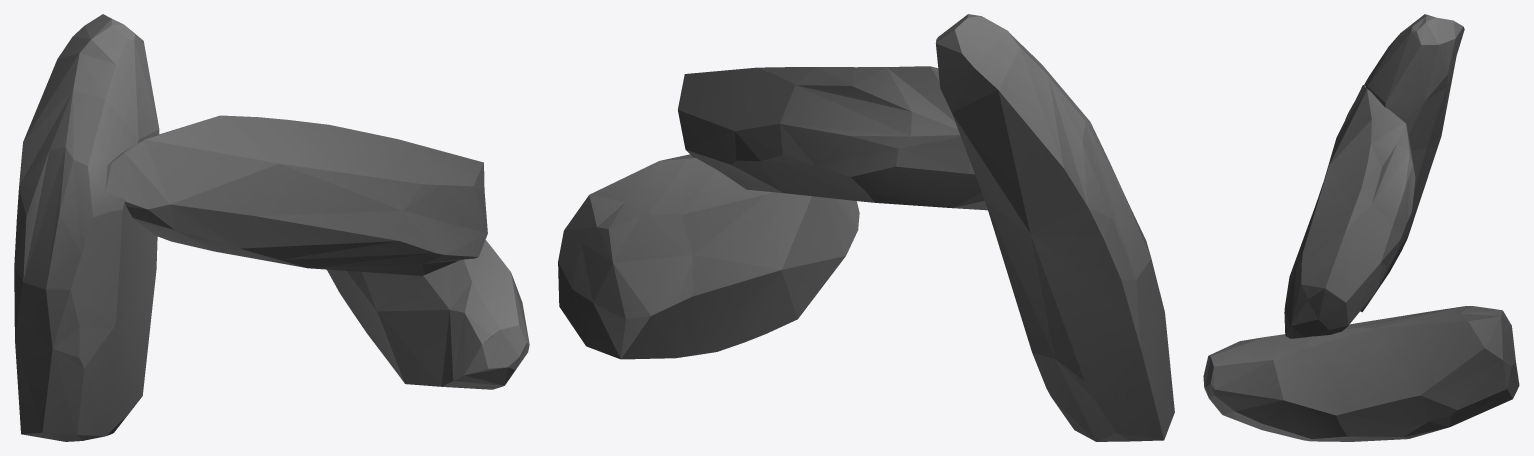
File: obsRock_04.fbx
3 renders of one model, left to right at view 1: azimuth 30°, elevation 25°; view 2: azimuth 150°, elevation 25°; view 3: azimuth 270°, elevation 25°, orthographic. The views are drawn at different scales.
Visible parts, largest first — view 1: obsRock_04; view 2: obsRock_04; view 3: obsRock_04.
Part boxes in pixels (x1,y1,x2,y2): obsRock_04: (14, 14, 529, 441); obsRock_04: (558, 14, 1174, 441); obsRock_04: (1203, 14, 1519, 441).
Size of the model in its own units: 1090 by 846 by 765.
Materials: 1 (1 with a texture image).
